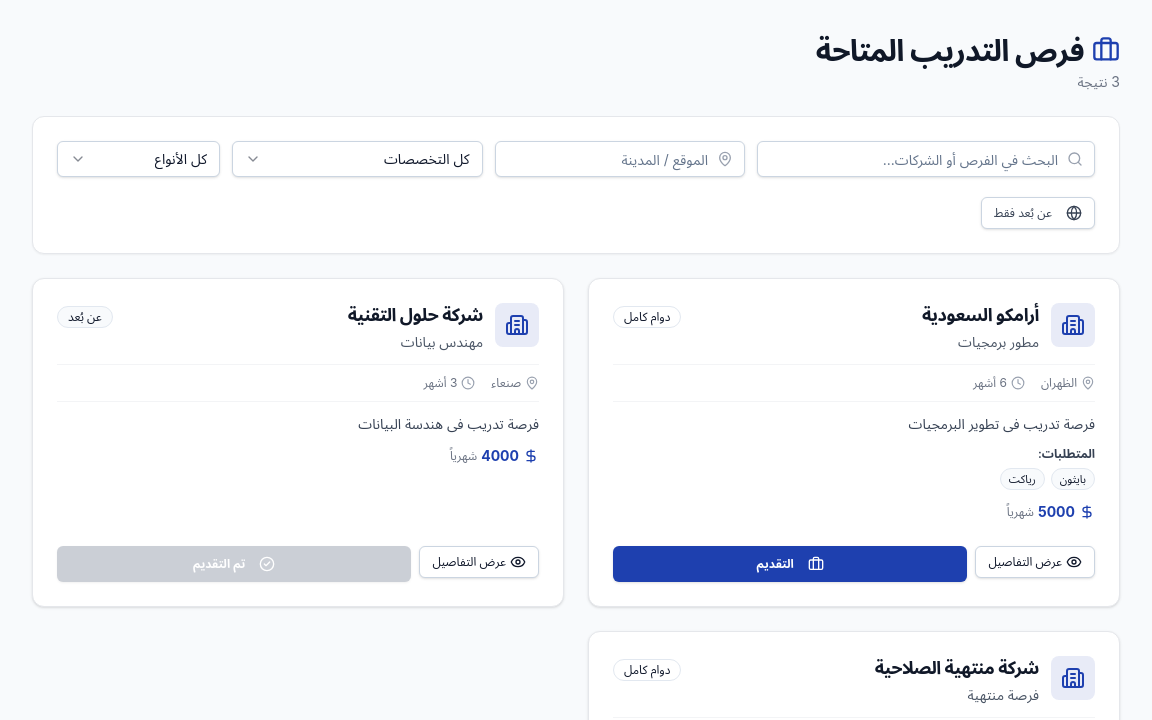
Test case: StudentOpportunitiesPage › opens apply dialog on clicking apply button
The image size is (1152, 720).
Click the button "التقديم".
click(790, 564)  # box left=613, top=546, right=967, bottom=582
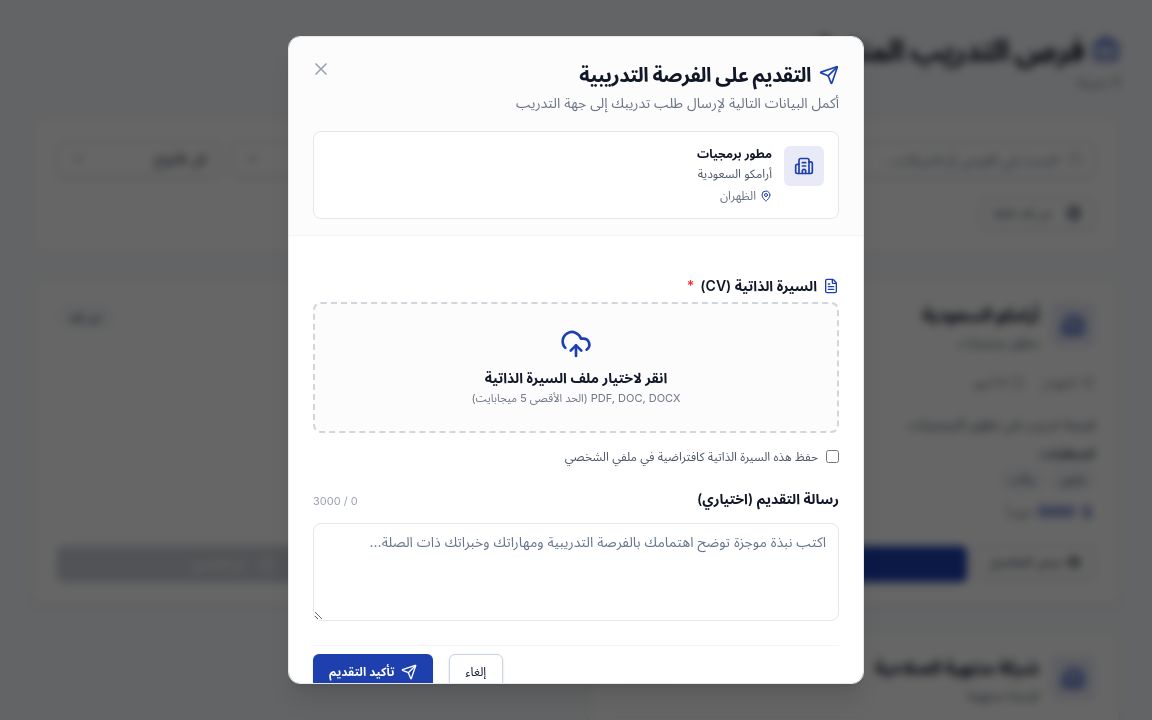
Expected: the text "التقديم على الفرصة التدريبية" is shown, left=579, top=61, right=811, bottom=89
